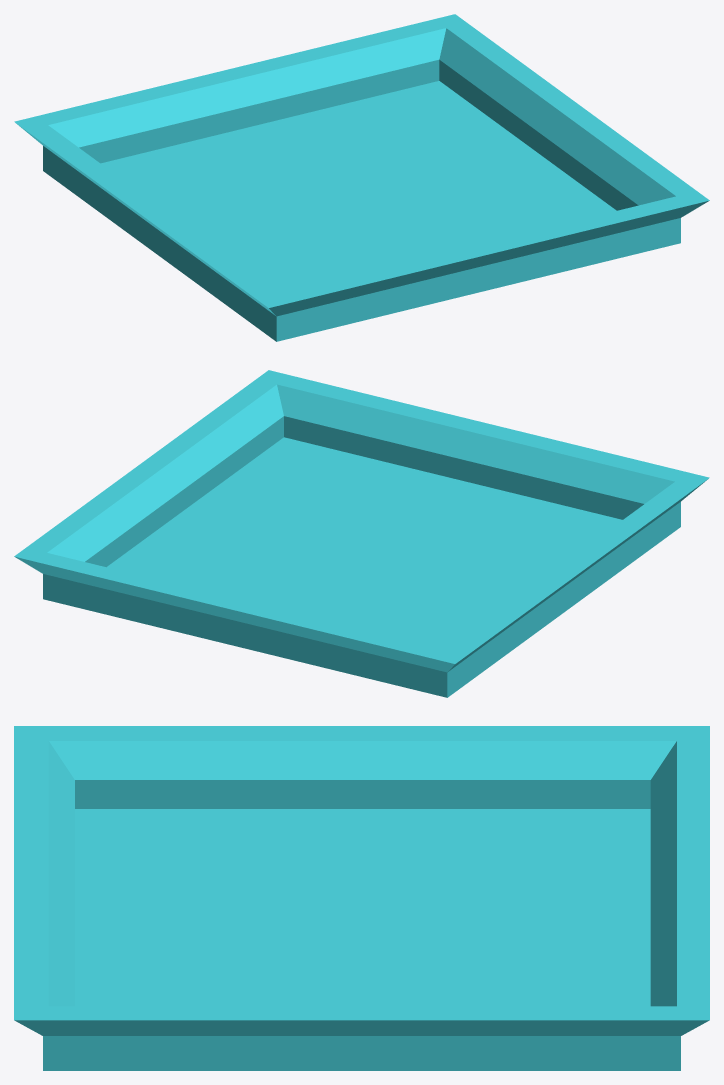
Rendered from Piso.fbx.
3 views of the same model, one above another, from view 1: azimuth 30°, elevation 25°; view 2: azimuth 150°, elevation 25°; view 3: azimuth 270°, elevation 25° (orthographic). The views are drawn at different scales.
Parts seen in each view (by area): view 1: Cube; view 2: Cube; view 3: Cube.
Part boxes in pixels (bbox=[...]): Cube: bbox=[14, 14, 709, 341]; Cube: bbox=[14, 370, 709, 697]; Cube: bbox=[14, 726, 709, 1070].
Bounding box in the file's own units: 21812 × 2170 × 21812.
